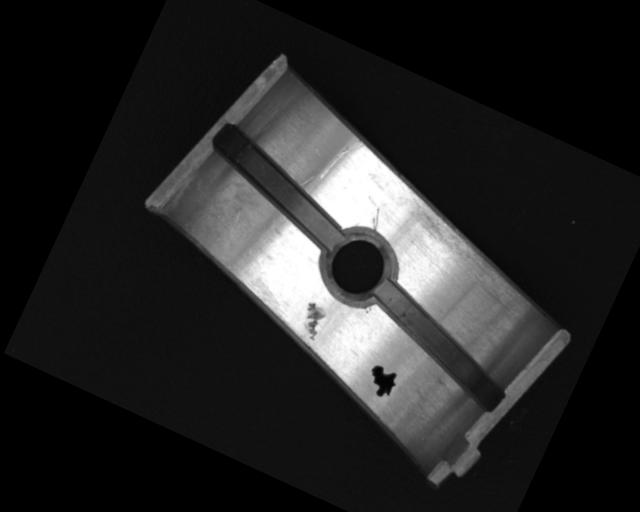blot: (363, 362, 400, 401)
bruise: (295, 300, 330, 341)
gap: (352, 277, 527, 413), (195, 124, 363, 250)
hole: (312, 219, 405, 314)
nick: (317, 130, 365, 189), (367, 206, 387, 233)
scratch: (393, 196, 540, 302)
